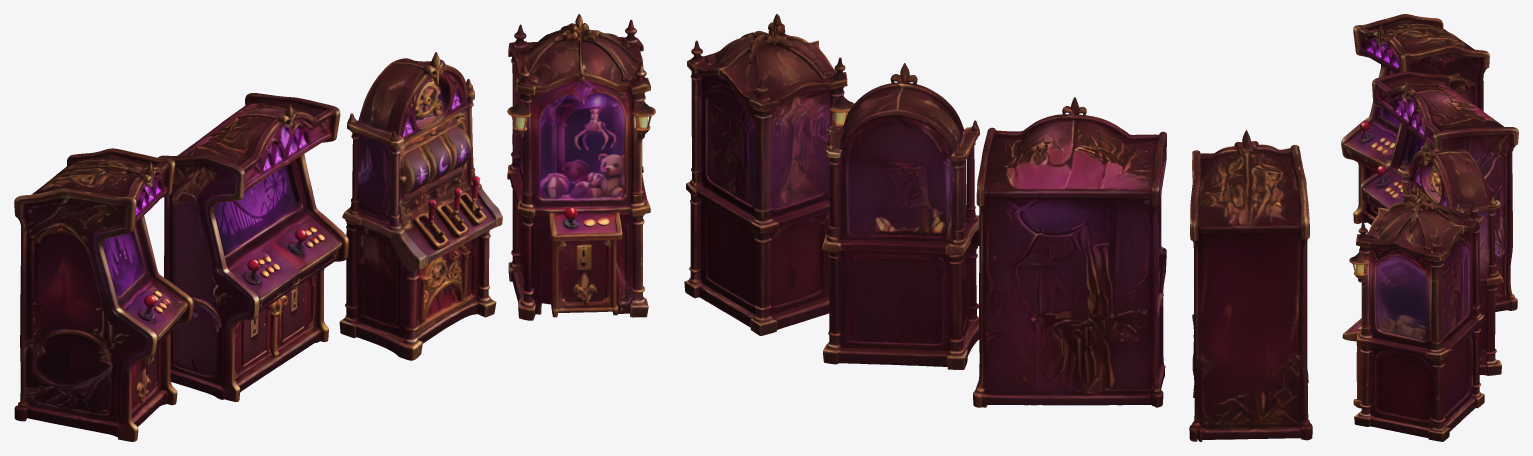
Rendered from arcade-props.glb.
The picture shows the model from 3 angles, left to right: view 1: azimuth 30°, elevation 25°; view 2: azimuth 150°, elevation 25°; view 3: azimuth 270°, elevation 25°; orthographic projection. The views are drawn at different scales.
Visible parts, largest first — view 1: model; view 2: model; view 3: model.
Boxes of the visible parts, left/top/right/bottom form: model: left=14, top=14, right=655, bottom=441; model: left=684, top=14, right=1312, bottom=441; model: left=1341, top=14, right=1518, bottom=441.
Bounding box in the file's own units: 1.9 × 0.8331 × 0.581.
1 material, 1 textured.
